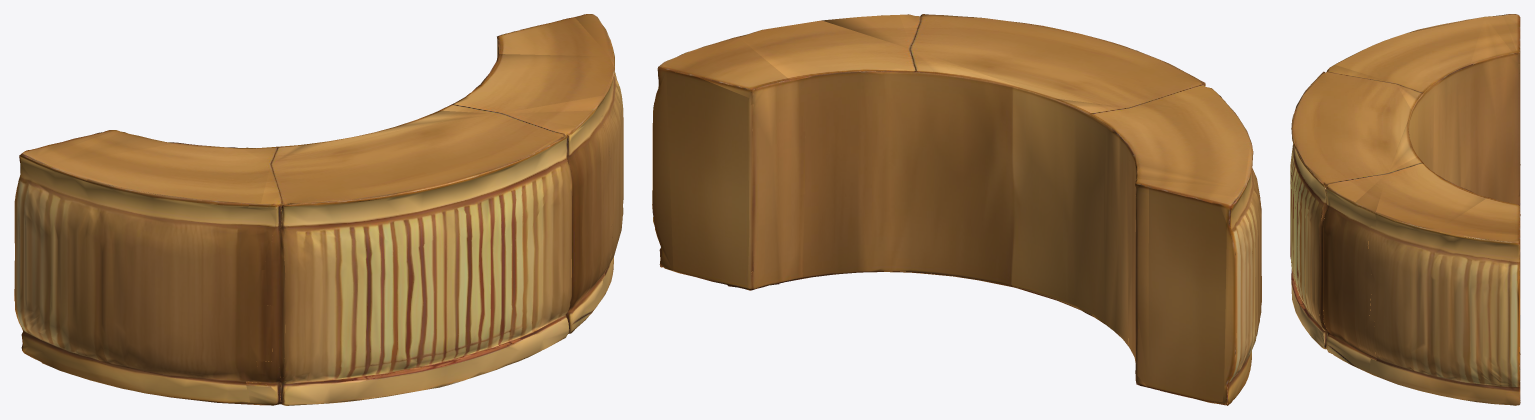
File: reception_desk_2.glb
The picture shows the model from 3 angles, left to right: view 1: azimuth 30°, elevation 25°; view 2: azimuth 150°, elevation 25°; view 3: azimuth 270°, elevation 25°; orthographic projection. The views are drawn at different scales.
Parts seen in each view (by area): view 1: Object_2; view 2: Object_2; view 3: Object_2.
Boxes of the visible parts, box(x1,y1,x2,y2) form: Object_2: box(14, 14, 623, 405); Object_2: box(652, 14, 1261, 405); Object_2: box(1290, 14, 1520, 405).
Bounding box in the file's own units: 1.9 × 0.6311 × 0.794.
1 material, 1 textured.
